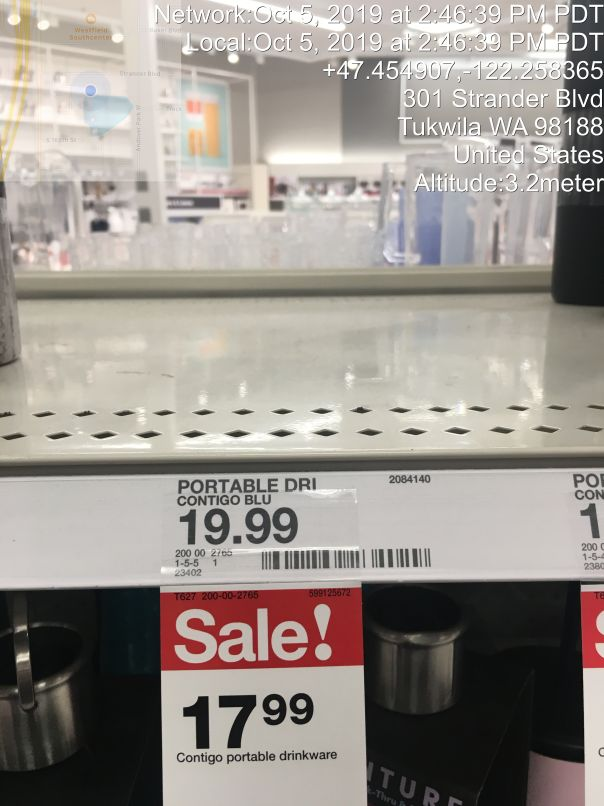Label: (149, 457, 449, 588)
Location: (385, 82, 604, 172)
Time: (143, 2, 604, 58)
Void: (19, 58, 557, 420)
